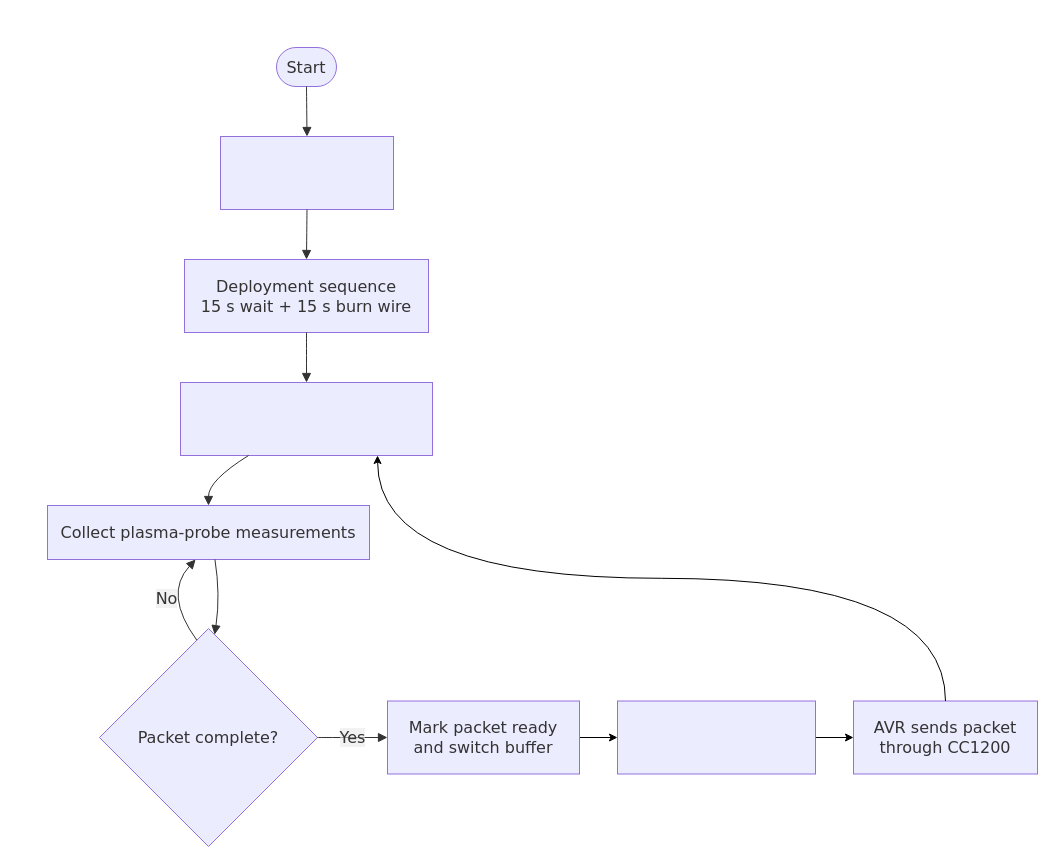
The diagram is 1055 pixels wide and 864 high, and some of its shapes have lost their labels. The shapes that lost their labels are listed below. From the top down, each one's centre as x and y in pixels, then its label:
point (307, 173): Initialize STM32 and sensors
point (306, 419): Initialize telemetry packet and read auxiliary sensors
point (716, 737): Send packet to AVR over UART
